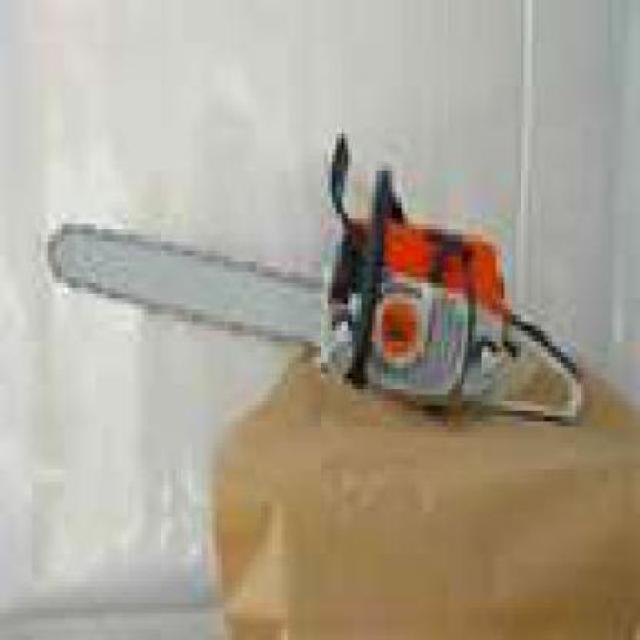Chainsaw: (48, 126, 588, 426)
